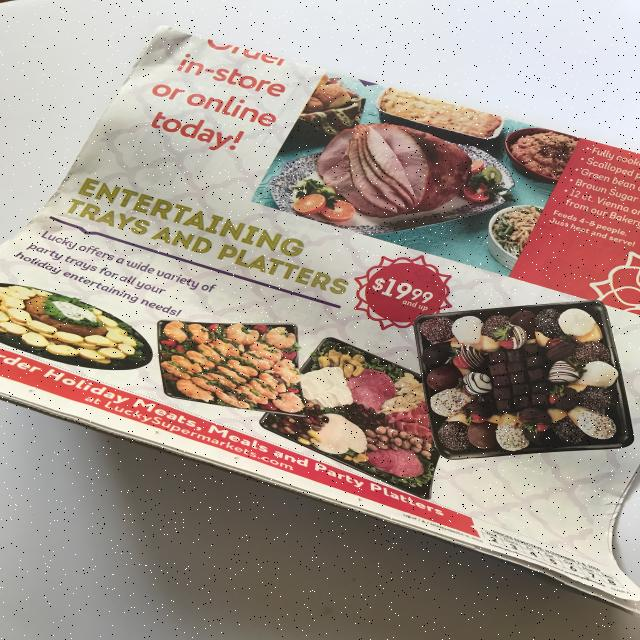paper: (1, 24, 638, 616)
